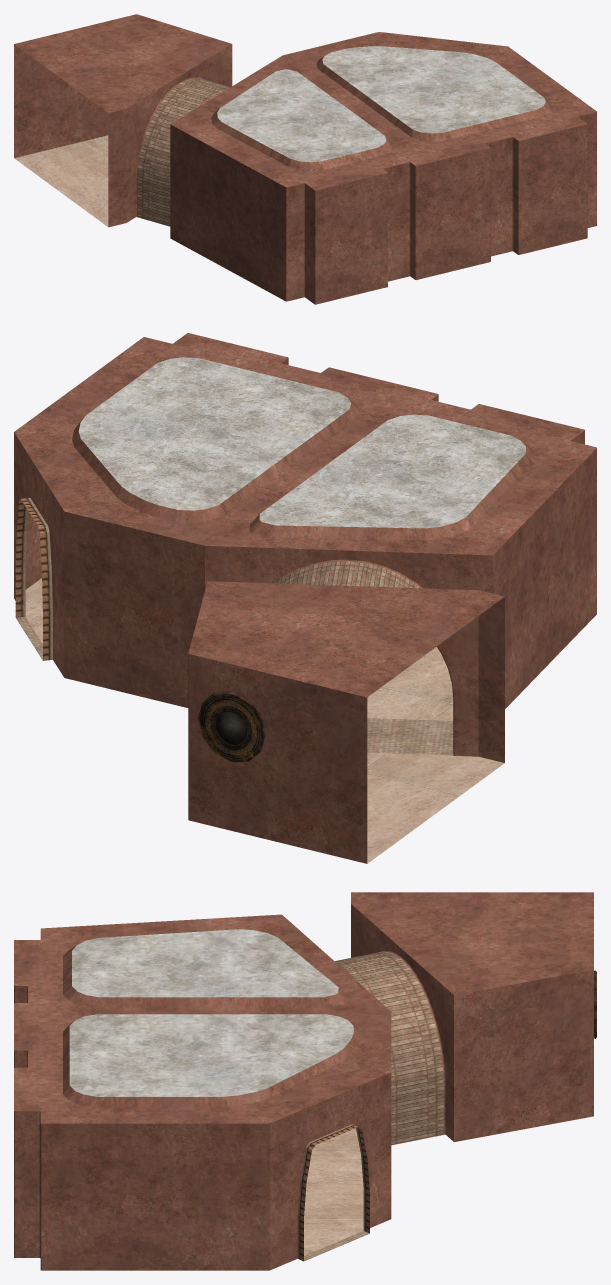
File: thm_nboo_cantina_r1_foyer1_mesh_r1.fbx
3 renders of one model, top to bottom at view 1: azimuth 30°, elevation 25°; view 2: azimuth 150°, elevation 25°; view 3: azimuth 270°, elevation 25°, orthographic. The views are drawn at different scales.
Visible parts, largest first — view 1: mesh_node; view 2: mesh_node; view 3: mesh_node.
Boxes of the visible parts, box(x1,y1,x2,y2) form: mesh_node: box(14, 14, 596, 304); mesh_node: box(14, 333, 596, 863); mesh_node: box(14, 892, 596, 1270).
Size of the model in its own units: 13.5 by 4.2 by 14.39.
